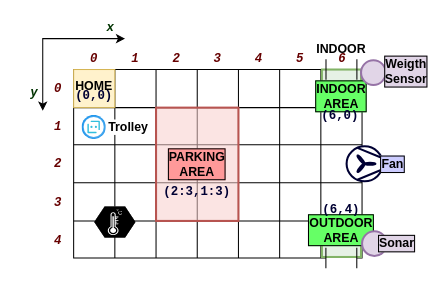
Image size: 446x303. Some labels were removed from this diagram. Each missing label, with the centre of its shape:
"OUTDOOR" goes at point (340, 257).
"Thermometer" goes at point (114, 221).
